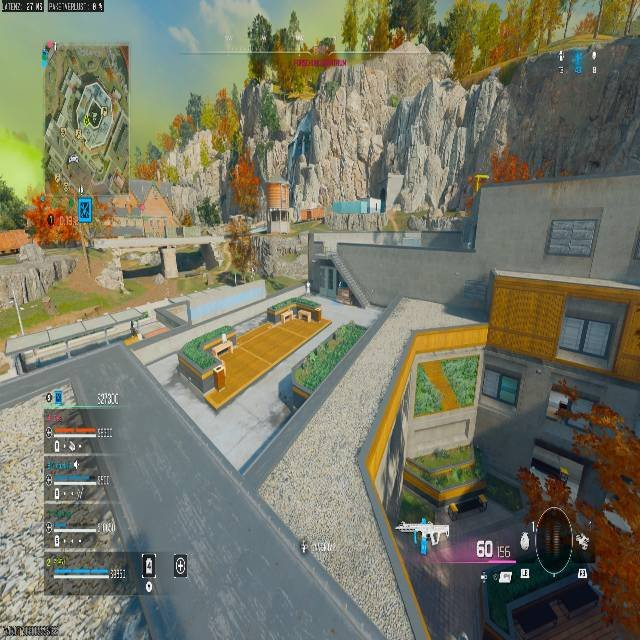head: (559, 378, 568, 387)
player: (173, 328, 237, 392), (220, 217, 254, 284), (551, 378, 578, 413)
